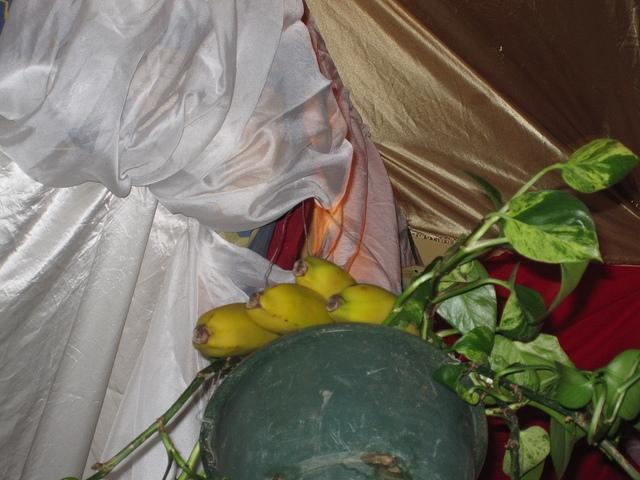banana: (326, 284, 422, 338), (192, 302, 281, 358), (246, 283, 336, 335), (292, 256, 357, 300)
